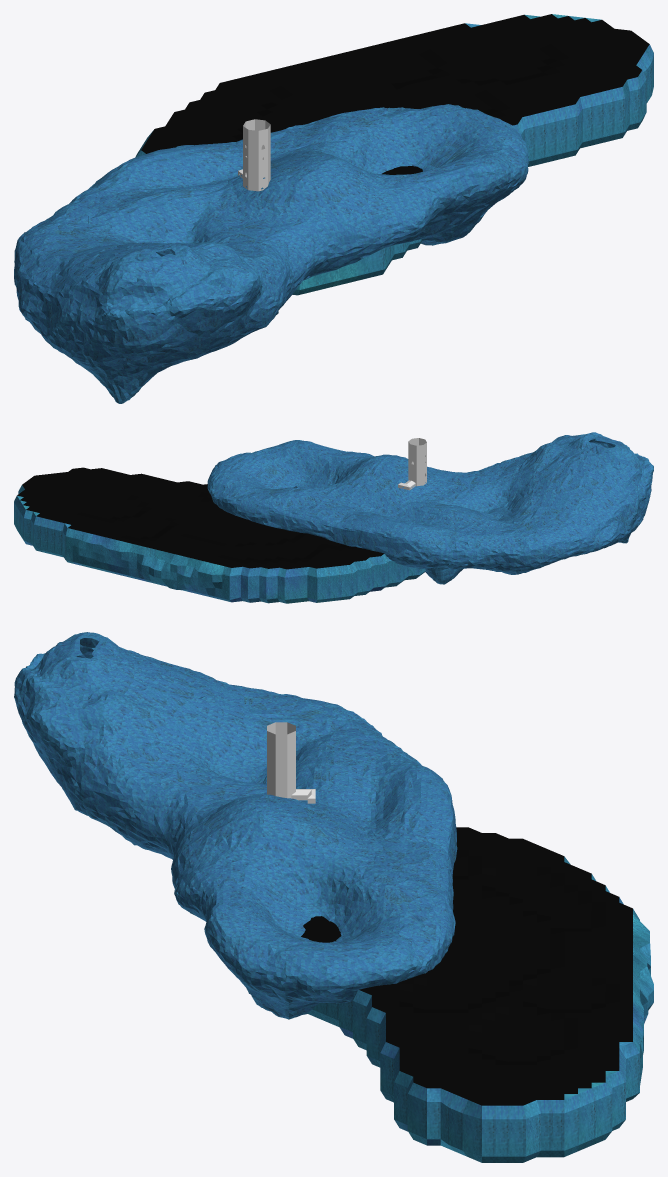
File: temp island 2.fbx
3 views of the same model, one above another, from view 1: azimuth 30°, elevation 25°; view 2: azimuth 150°, elevation 25°; view 3: azimuth 270°, elevation 25° (orthographic). The views are drawn at different scales.
Parts seen in each view (by area): view 1: plane_1, plane, exterior skin; view 2: plane_1, plane, exterior skin; view 3: plane_1, plane, exterior skin.
Boxes of the visible parts, x1=… form: plane_1: x1=14, y1=104, x2=528, y2=403; plane: x1=135, y1=14, x2=653, y2=295; exterior skin: x1=238, y1=119, x2=270, y2=191; plane_1: x1=207, y1=432, x2=653, y2=584; plane: x1=14, y1=467, x2=425, y2=603; exterior skin: x1=398, y1=438, x2=426, y2=490; plane_1: x1=14, y1=632, x2=457, y2=1019; plane: x1=301, y1=827, x2=653, y2=1162; exterior skin: x1=267, y1=722, x2=315, y2=803.
Size of the model in its own units: 70350 by 16011 by 46611.
